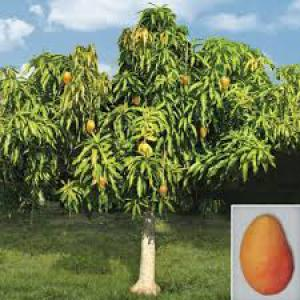Tree: (0, 0, 299, 295)
